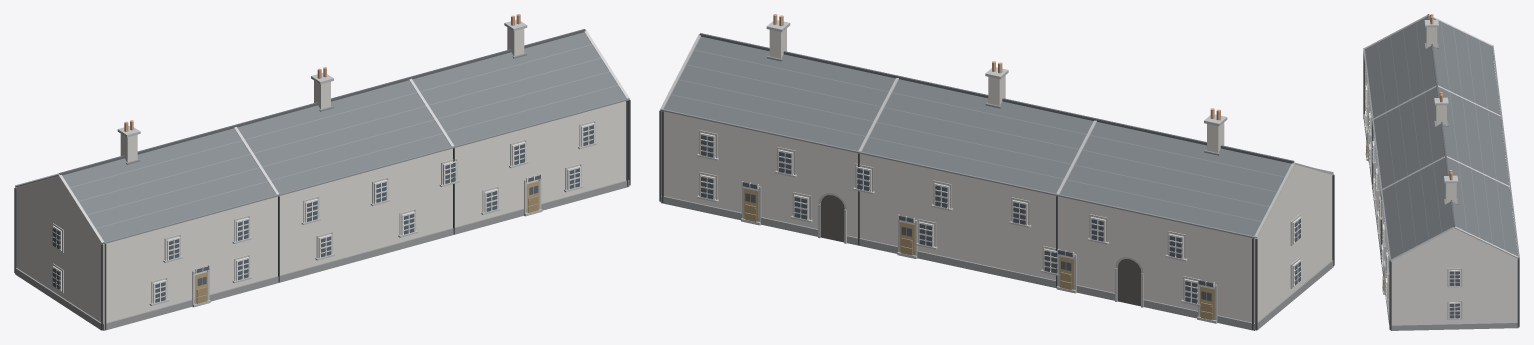
3 renders of one model, left to right at view 1: azimuth 30°, elevation 25°; view 2: azimuth 150°, elevation 25°; view 3: azimuth 270°, elevation 25°, orthographic. The views are drawn at different scales.
Parts seen in each view (by area): view 1: harl, slate, plinth, stone_band, slate_lt, frame, slate_dk, lead, pipe, chim_render; view 2: harl, slate, stone_band, plinth, slate_lt, frame, slate_dk, pend_dark, lead, pipe, chim_render, door_wood (+1 smaller); view 3: slate, harl, stone_band, slate_lt, lead, plinth, frame, pipe, chim_render, slate_dk.
Part boxes in pixels (box(x1,y1,x2,y2)): harl: box(16, 101, 626, 323); slate: box(62, 32, 626, 241); plinth: box(15, 180, 629, 330); stone_band: box(15, 19, 629, 307); slate_lt: box(70, 44, 618, 228); frame: box(52, 123, 594, 303); slate_dk: box(59, 29, 585, 175); lead: box(15, 53, 629, 243); pipe: box(14, 100, 630, 329); chim_render: box(120, 27, 524, 162); harl: box(661, 111, 1332, 322); slate: box(664, 36, 1291, 235); stone_band: box(660, 20, 1333, 323); plinth: box(660, 195, 1333, 330); slate_lt: box(670, 49, 1284, 221); frame: box(700, 133, 1301, 304); slate_dk: box(699, 33, 1294, 163); pend_dark: box(820, 195, 1141, 305); lead: box(660, 55, 1333, 238); pipe: box(659, 110, 1334, 329); chim_render: box(769, 28, 1224, 152); door_wood: box(743, 188, 1214, 319); slate: box(1365, 16, 1517, 259); harl: box(1365, 65, 1517, 325); stone_band: box(1364, 15, 1518, 319); slate_lt: box(1377, 22, 1505, 252); lead: box(1363, 42, 1519, 260); plinth: box(1363, 114, 1518, 330); frame: box(1364, 85, 1515, 318); pipe: box(1363, 48, 1519, 330); chim_render: box(1426, 27, 1456, 203); slate_dk: box(1427, 14, 1455, 226).
Size of the model in its own units: 38.7 by 10.84 by 11.87.
